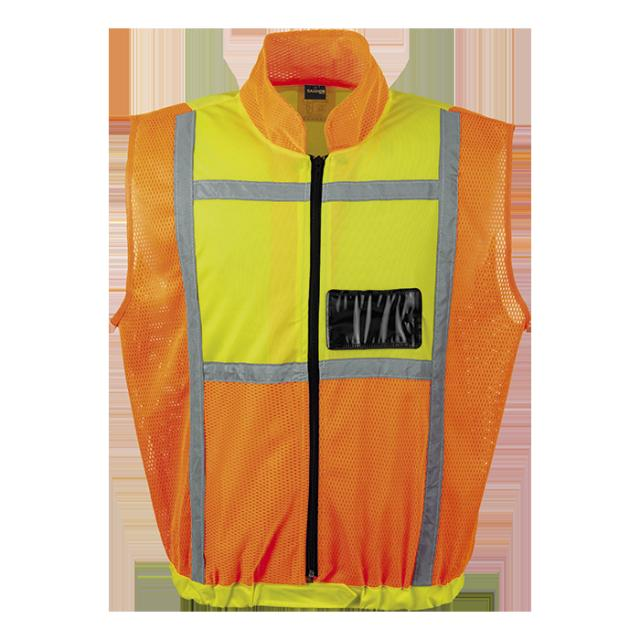Reflective-Jacket: (113, 41, 538, 622)
